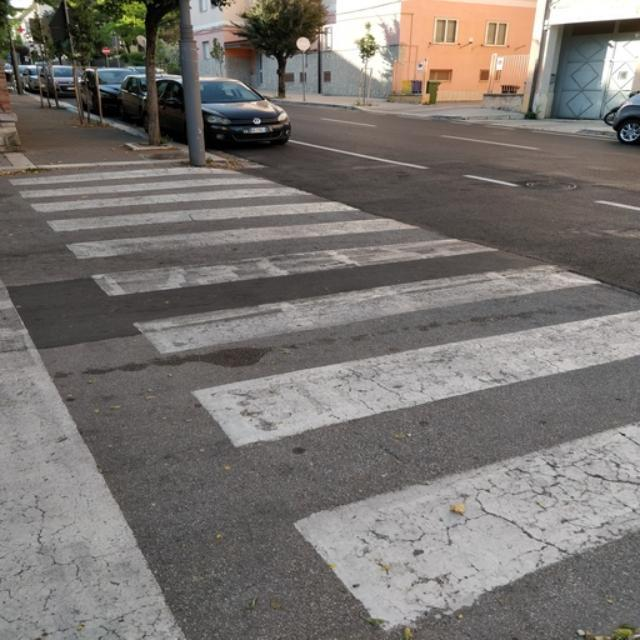sidewalk: (9, 165, 639, 636)
